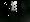person: (9, 3, 17, 15)
